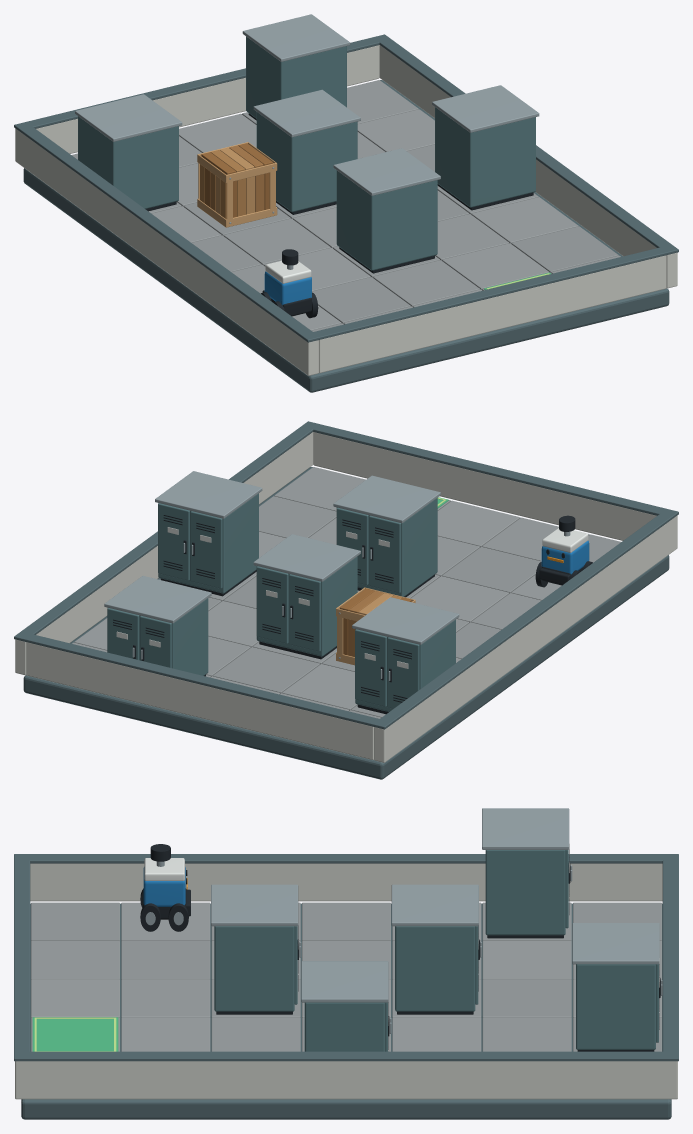
The picture shows the model from 3 angles, top to bottom: view 1: azimuth 30°, elevation 25°; view 2: azimuth 150°, elevation 25°; view 3: azimuth 270°, elevation 25°; orthographic projection. The views are drawn at different scales.
Visible parts, largest first — view 1: Cutaway wall.002, Floor foundation, obstacle_1, obstacle_4, Cutaway wall, obstacle_2, obstacle_0, obstacle_3, Cutaway wall.001, crate, Cutaway wall.003, Wall coping (+21 smaller); view 2: Cutaway wall.003, Floor foundation, Cutaway wall.002, obstacle_4, Cutaway wall, obstacle_2, obstacle_1, obstacle_0, obstacle_3, Cutaway wall.001, Wall coping, Wall coping.003 (+20 smaller); view 3: Cutaway wall.001, Cutaway wall, Floor foundation, obstacle_1, obstacle_0, obstacle_2, obstacle_3, obstacle_4, Wall coping.001, Wall coping, agent, Tile_2_1 (+20 smaller).
Boxes of the visible parts, <box> form: Cutaway wall.002: <box>319,255,666,373</box>; Floor foundation: <box>23,80,669,392</box>; obstacle_1: <box>333,148,440,273</box>; obstacle_4: <box>432,85,539,210</box>; Cutaway wall: <box>15,128,318,375</box>; obstacle_2: <box>253,89,360,214</box>; obstacle_0: <box>75,94,182,211</box>; obstacle_3: <box>242,14,350,120</box>; Cutaway wall.001: <box>379,45,677,288</box>; crate: <box>197,142,277,227</box>; Cutaway wall.003: <box>36,45,379,153</box>; Wall coping: <box>14,122,319,342</box>; Cutaway wall.003: <box>26,642,373,759</box>; Floor foundation: <box>23,467,669,779</box>; Cutaway wall.002: <box>313,432,656,540</box>; obstacle_4: <box>155,471,262,596</box>; Cutaway wall: <box>374,515,677,762</box>; obstacle_2: <box>253,534,360,659</box>; obstacle_1: <box>333,475,440,597</box>; obstacle_0: <box>352,597,459,714</box>; obstacle_3: <box>104,576,211,676</box>; Cutaway wall.001: <box>15,432,313,675</box>; Wall coping: <box>373,509,678,729</box>; Wall coping.003: <box>25,634,379,726</box>; Cutaway wall.001: <box>15,1061,677,1099</box>; Cutaway wall: <box>30,863,662,901</box>; Floor foundation: <box>21,903,671,1119</box>; obstacle_1: <box>211,884,301,1014</box>; obstacle_0: <box>482,808,572,938</box>; obstacle_2: <box>391,884,481,1014</box>; obstacle_3: <box>572,923,662,1051</box>; obstacle_4: <box>301,961,391,1051</box>; Wall coping.001: <box>14,1051,678,1061</box>; Wall coping: <box>14,854,678,863</box>; agent: <box>140,844,190,931</box>; Tile_2_1: <box>121,979,210,1017</box>.
Size of the model in its own units: 5.36 by 1.44 by 7.36.
